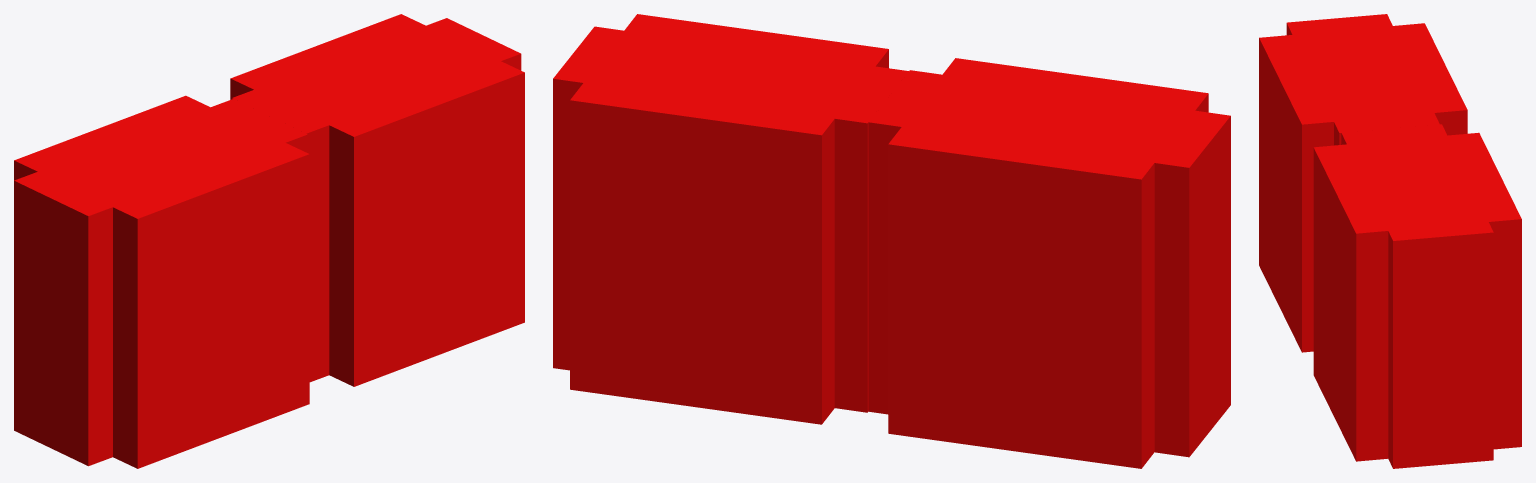
File: PDV_Dummy_(T24_T25).fbx
3 renders of one model, left to right at view 1: azimuth 30°, elevation 25°; view 2: azimuth 150°, elevation 25°; view 3: azimuth 270°, elevation 25°, orthographic. The views are drawn at different scales.
Visible parts, largest first — view 1: Cube_1, Cube, Cube__1__1, Cube__1_; view 2: Cube_1, Cube, Cube__1__1, Cube__1_; view 3: Cube, Cube_1, Cube__1_, Cube__1__1.
Boxes of the visible parts, box(x1,y1,x2,y2) form: Cube_1: box(14, 95, 309, 468); Cube: box(230, 14, 524, 386); Cube__1__1: box(14, 99, 307, 466); Cube__1_: box(231, 18, 521, 382); Cube_1: box(888, 58, 1208, 468); Cube: box(570, 14, 888, 424); Cube__1__1: box(868, 70, 1230, 457); Cube__1_: box(553, 26, 908, 412); Cube: box(1313, 132, 1521, 461); Cube_1: box(1259, 23, 1467, 352); Cube__1_: box(1341, 124, 1493, 468); Cube__1__1: box(1286, 14, 1439, 145).
Bounding box in the file's own units: 3586 × 1678 × 1754.
